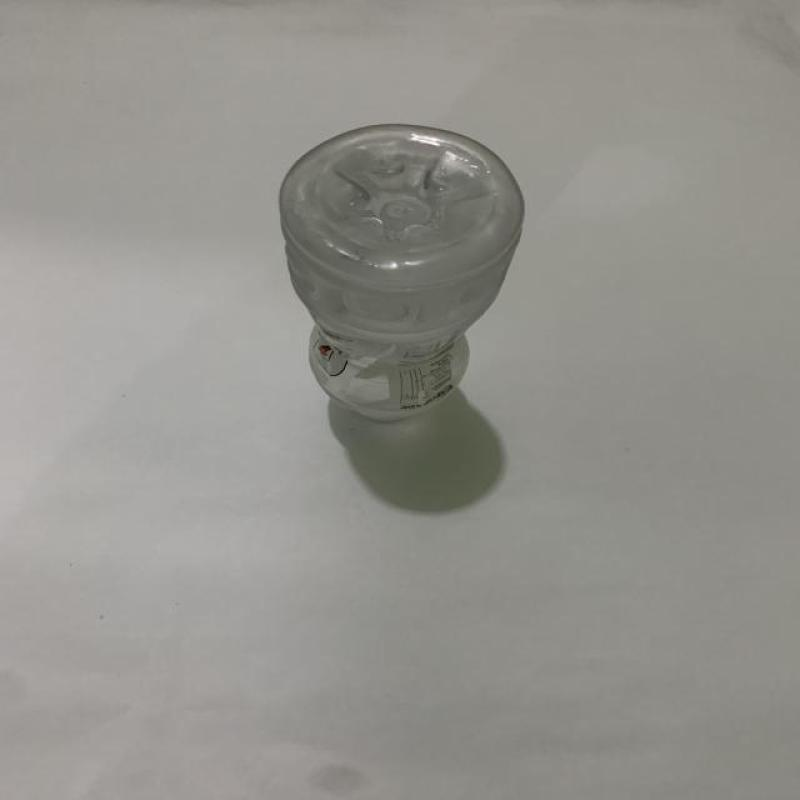botella: (276, 123, 530, 431)
